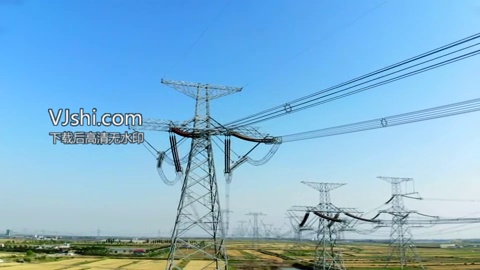tower_body: (141, 69, 274, 270), (289, 175, 356, 270), (373, 172, 430, 270)
tower_foot: (166, 225, 229, 270), (384, 244, 422, 270), (315, 240, 343, 269)
tower_head: (159, 77, 249, 101), (298, 179, 351, 191), (375, 173, 416, 185)
